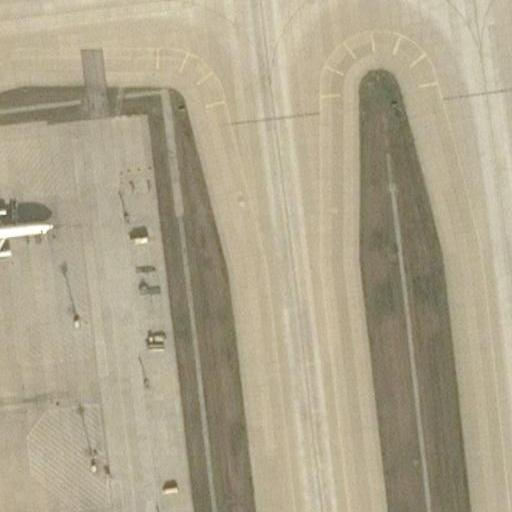Aircraft: (0, 167, 63, 299)
